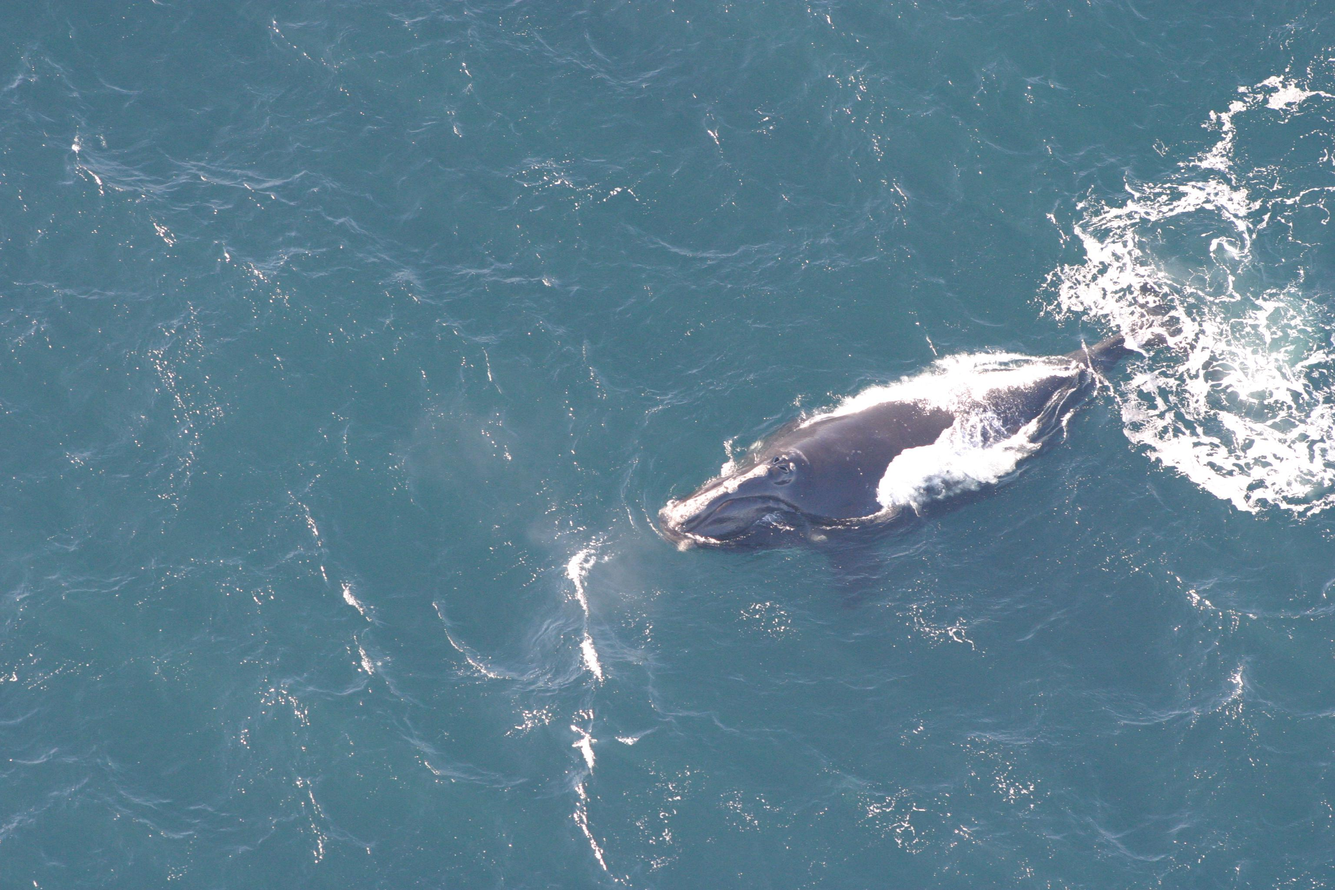whale: (650, 224, 1255, 609)
